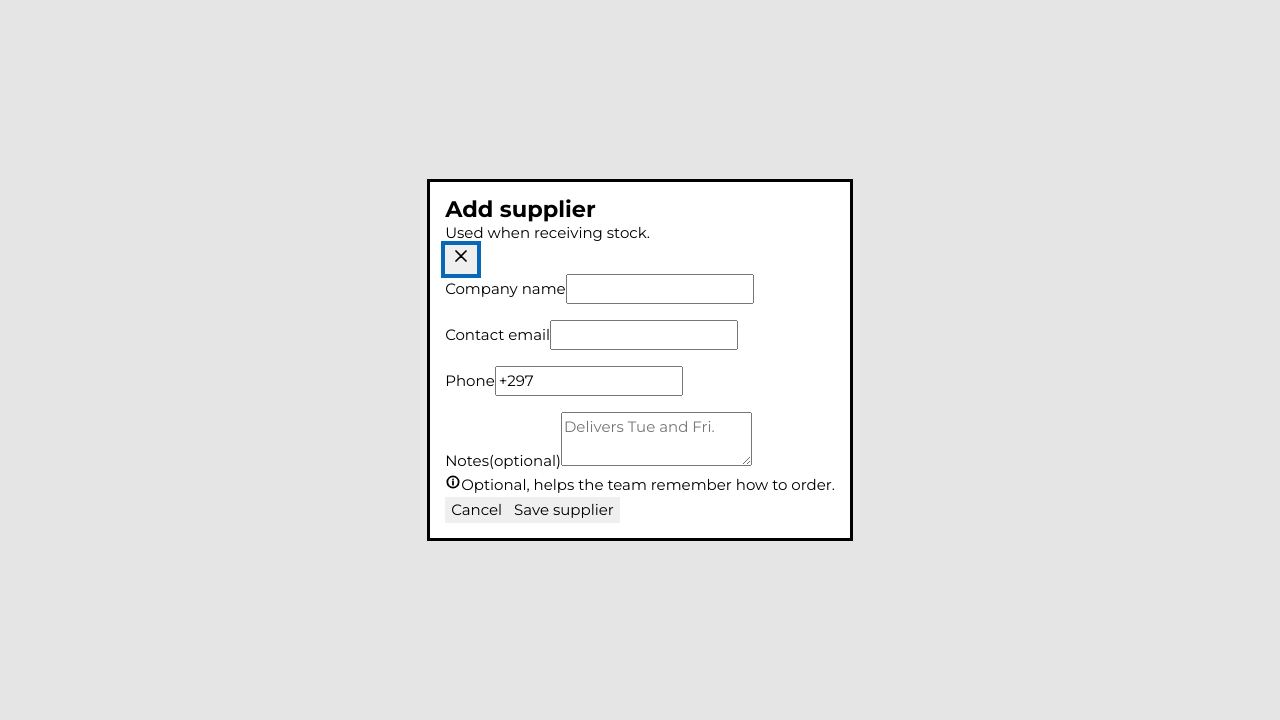
Test case: SupplierModal › asks for what is missing
Click the button "Save supplier" at x=564, y=510, box [508,497,620,523]
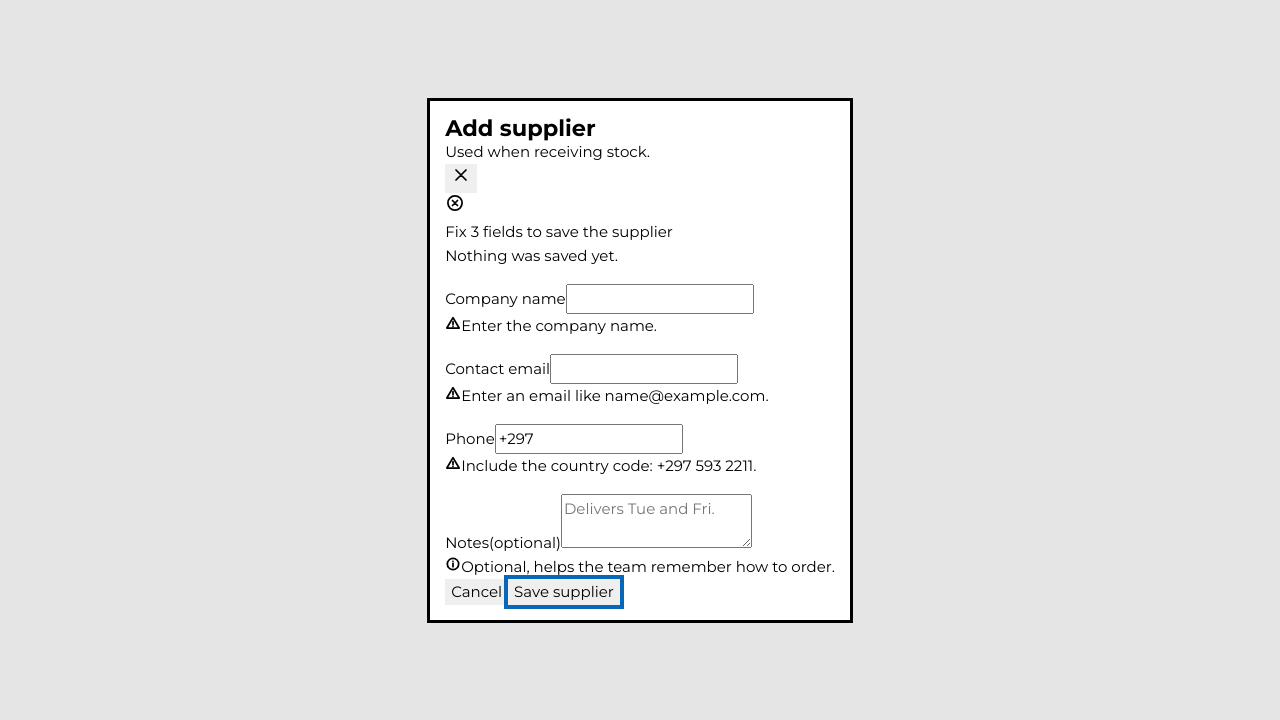
Check: the message shows "Fix 3 fields to save the supplier", box [445,222,673,240]
Check: the text "Enter the company name." is shown, box [461,316,657,334]
